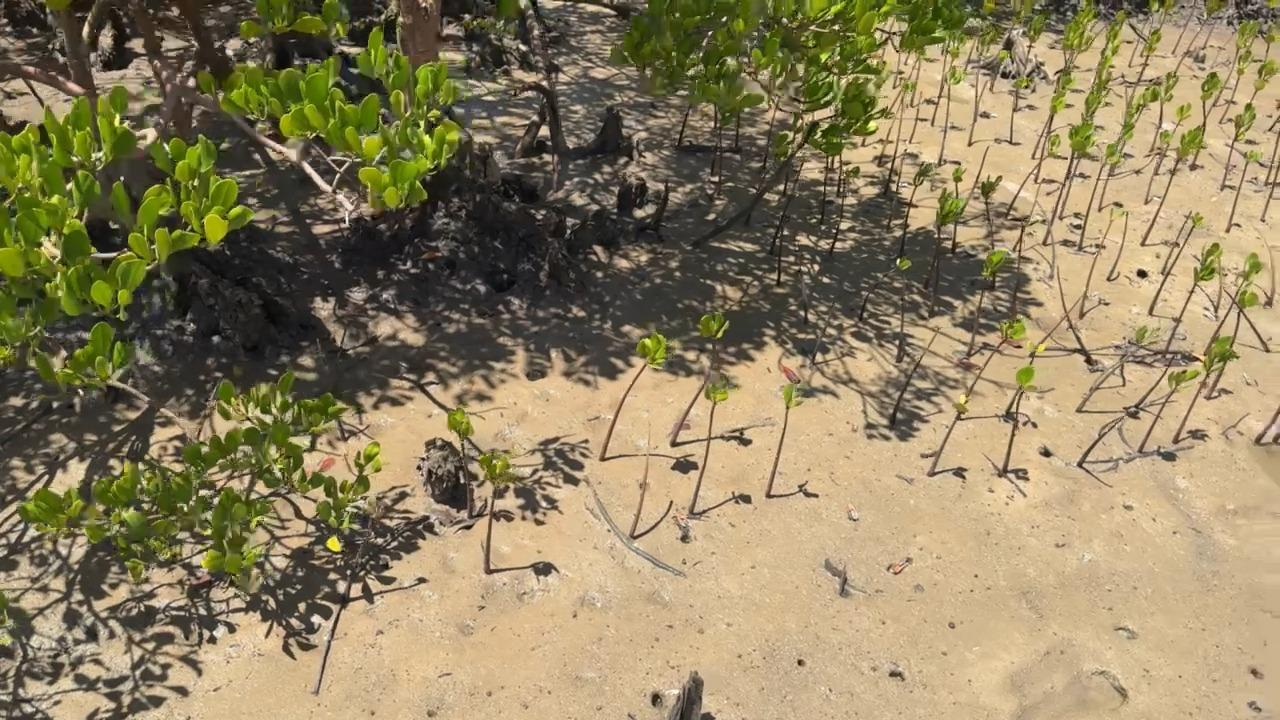Tree: (598, 334, 669, 463), (1140, 125, 1207, 245), (670, 313, 729, 448), (1173, 335, 1239, 444), (1075, 329, 1158, 413), (1163, 244, 1222, 356), (1041, 124, 1094, 247), (1204, 252, 1264, 352), (1136, 368, 1200, 455), (1208, 291, 1260, 398), (1148, 214, 1202, 317), (688, 381, 728, 511), (963, 319, 1027, 399), (1075, 145, 1122, 249), (967, 249, 1011, 356), (891, 327, 940, 423), (1007, 134, 1062, 218), (1080, 209, 1122, 317), (764, 385, 804, 496), (1174, 0, 1227, 74), (478, 454, 510, 573), (1213, 23, 1259, 105), (926, 393, 970, 477), (934, 189, 968, 291), (1056, 268, 1092, 363), (857, 258, 912, 320), (1002, 366, 1034, 472), (1224, 150, 1264, 233), (446, 406, 475, 519), (900, 161, 936, 251), (878, 82, 917, 164), (923, 188, 955, 287), (1222, 101, 1257, 190), (1097, 134, 1135, 214), (1225, 288, 1270, 355), (1058, 137, 1094, 220), (1005, 342, 1048, 411), (968, 33, 994, 143), (629, 426, 654, 539), (1192, 70, 1220, 168), (830, 165, 860, 256), (938, 66, 964, 164), (981, 175, 1004, 285), (1219, 51, 1254, 123), (1030, 94, 1068, 160), (1158, 102, 1193, 172), (1130, 28, 1163, 99), (1149, 73, 1179, 150), (1076, 420, 1120, 470), (883, 98, 906, 193), (1128, 0, 1161, 65), (1135, 358, 1175, 409), (1161, 208, 1192, 273), (963, 144, 991, 213), (930, 45, 953, 127), (1145, 129, 1170, 204), (1255, 226, 1279, 303), (1047, 72, 1076, 135), (1037, 202, 1059, 279), (979, 51, 1011, 102), (1107, 212, 1130, 282), (1114, 106, 1139, 168), (812, 304, 838, 363), (1170, 0, 1197, 56), (951, 165, 968, 252), (1063, 23, 1092, 69), (1021, 17, 1043, 76), (1009, 76, 1027, 143), (1036, 112, 1053, 182), (769, 198, 792, 249), (943, 36, 965, 89), (1012, 224, 1027, 300), (1259, 164, 1279, 221), (1254, 403, 1280, 445), (1263, 133, 1280, 186), (1133, 88, 1158, 124), (1097, 33, 1121, 65), (821, 155, 831, 224), (1081, 92, 1103, 123), (909, 93, 922, 145), (1264, 23, 1279, 66), (1202, 13, 1220, 48), (1141, 18, 1157, 56), (1092, 66, 1113, 94), (1077, 1, 1097, 29), (775, 231, 785, 285), (897, 295, 905, 360), (911, 61, 922, 107), (1214, 257, 1223, 313), (1161, 0, 1176, 29), (1109, 11, 1128, 31), (1267, 116, 1280, 132)
